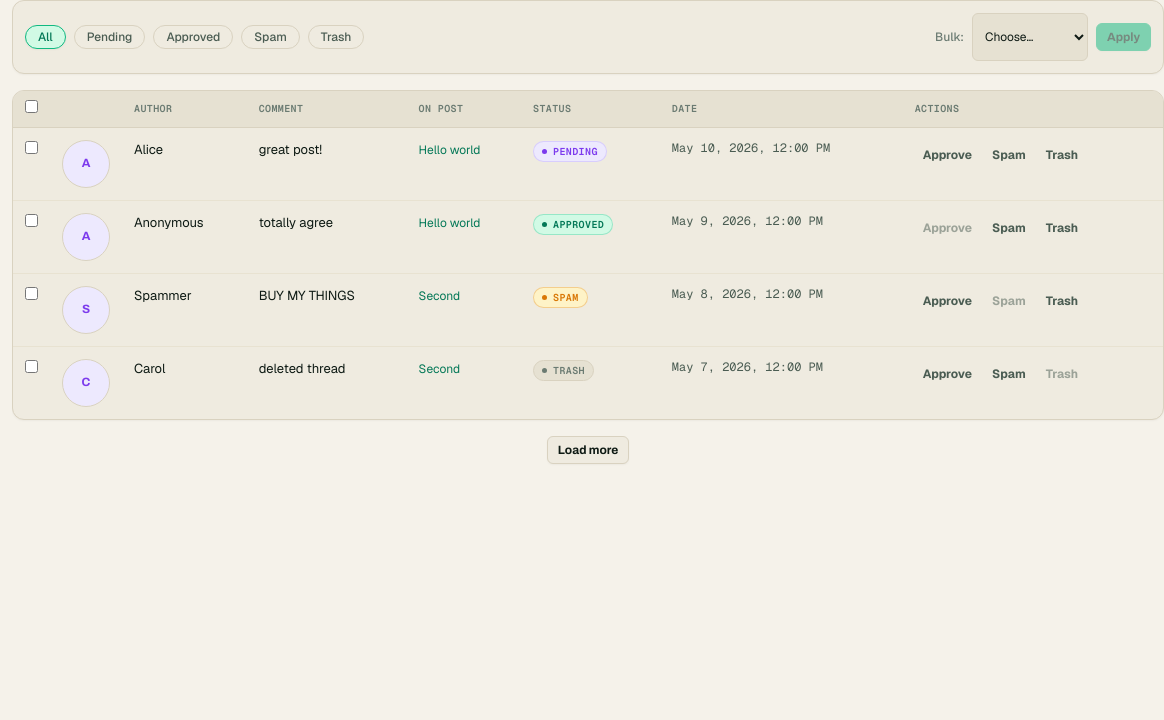
Test case: CommentListClient › shows inline error when load-more rejects
Click the button "Load more" at (588, 450), box x1=547 y1=436 x2=629 y2=464
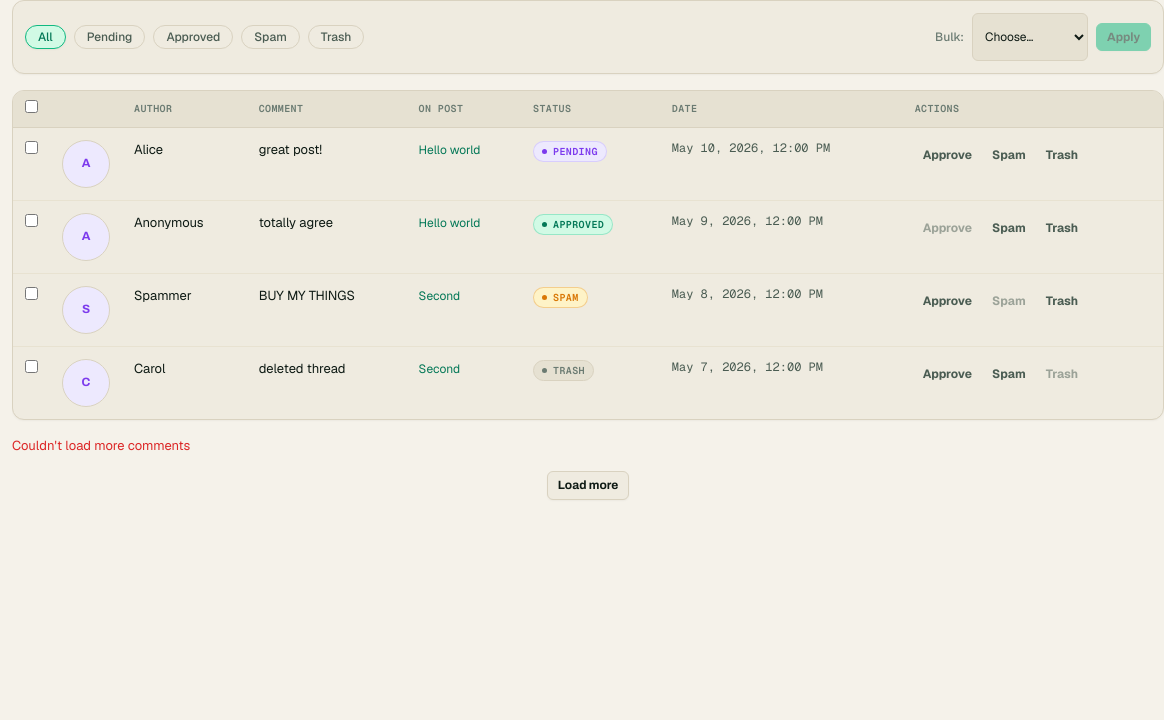
Expected: the message reads "Couldn't load more comments", x1=12 y1=436 x2=190 y2=454
